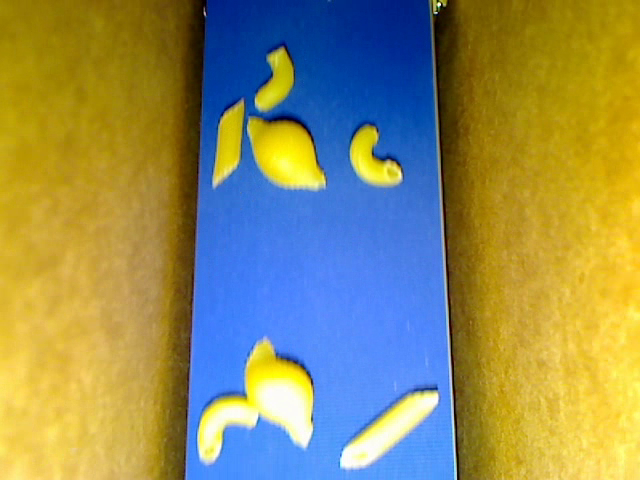elbow: (196, 394, 260, 465), (348, 123, 403, 187), (254, 47, 294, 113)
penne: (339, 390, 440, 469), (211, 98, 243, 189)
shell: (244, 335, 314, 450), (245, 115, 326, 190)
